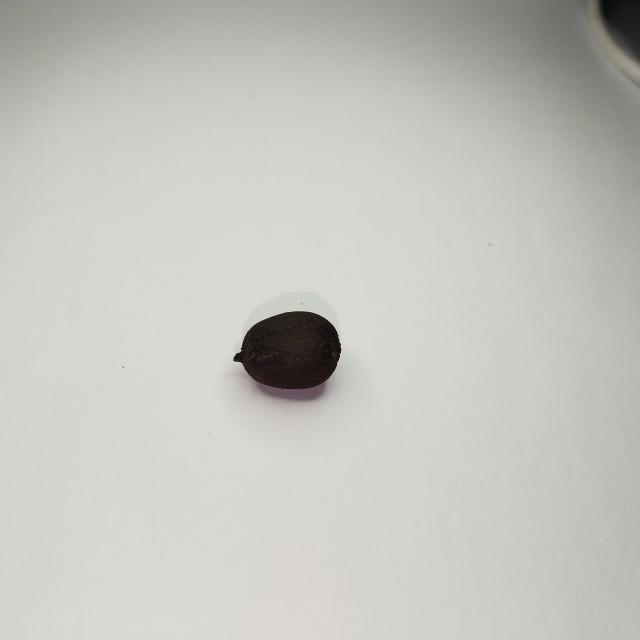Danado: (234, 312, 340, 389)
